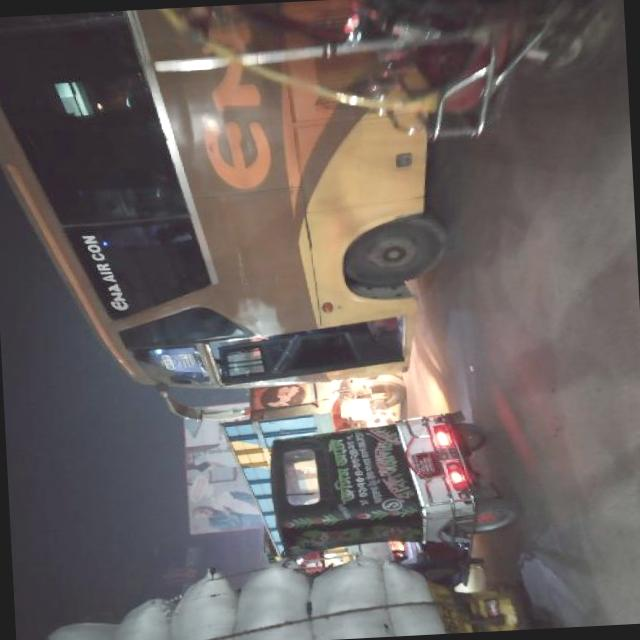bus: (0, 0, 455, 435)
motorcycle: (217, 0, 612, 153), (270, 410, 520, 570)
truck: (234, 370, 421, 562)
